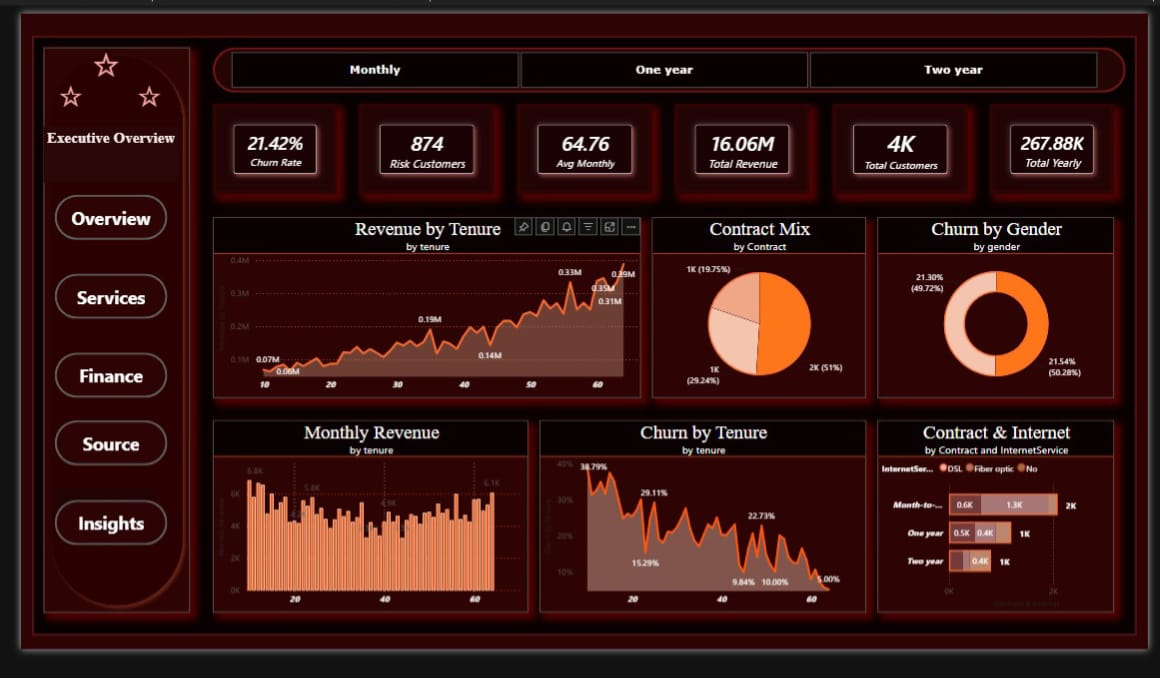

Layout of this report page (visuals, bound fields, positions):
{"tool":"powerbi","page":{"name":"Executive Overview","canvas":[1600,900],"ordinal":0},"visuals":[{"type":"shape","box":[16,32,1568,848],"z":0},{"type":"shape","box":[32,48,208,800],"z":1000},{"type":"cardVisual","fields":{"Data":["TelcoChurnData.Total Customers"]},"box":[1152,128,192,128],"z":2000},{"type":"cardVisual","fields":{"Data":["Sum(vw_DashboardKPIs.TotalRevenue)"]},"box":[928,128,192,128],"z":3000},{"type":"cardVisual","fields":{"Data":["Sum(vw_DashboardKPIs.AvgMonthlyCharges)"]},"box":[704,128,192,128],"z":4000},{"type":"cardVisual","fields":{"Data":["vw_DashboardKPIs.At Risk Customers"]},"box":[480,128,192,128],"z":5000},{"type":"barChart","fields":{"Category":["TelcoChurnData.Contract"],"Series":["TelcoChurnData.InternetService"],"Y":["TelcoChurnData.Total Customers"]},"box":[1216,576,336,272],"z":6000},{"type":"cardVisual","fields":{"Data":["FactRevenue.Total Revenue Fact"]},"box":[1376,128,176,128],"z":7000},{"type":"cardVisual","fields":{"Data":["FactRevenue.Churn Rate Fact"]},"box":[272,128,176,128],"z":8000},{"type":"clusteredColumnChart","fields":{"Category":["FactRevenue.tenure"],"Y":["FactRevenue.Total Revenue Fact"]},"box":[272,576,448,272],"z":9000},{"type":"slicer","fields":{"Values":["FactRevenue.tenure"]},"box":[1024,688,160,64],"z":10000},{"type":"pieChart","fields":{"Category":["DimContract.Contract"],"Y":["FactRevenue.Total Customers Fact"]},"box":[896,288,304,256],"z":11000},{"type":"lineChart","fields":{"Category":["FactRevenue.tenure"],"Y":["TelcoChurnData.Total Revenue"]},"box":[272,288,608,256],"z":12000},{"type":"textbox","box":[32,160,192,80],"z":13000},{"type":"lineChart","fields":{"Category":["FactRevenue.tenure"],"Y":["FactRevenue.Churn Rate Fact"]},"box":[736,576,464,272],"z":14000},{"type":"donutChart","fields":{"Category":["DimCustomer.gender"],"Y":["FactRevenue.Churn Rate Fact"]},"box":[1216,288,336,256],"z":16000},{"type":"textbox","box":[48,80,48,80],"z":17000},{"type":"textbox","box":[96,32,80,96],"z":18000},{"type":"textbox","box":[160,80,64,80],"z":19000},{"type":"shape","box":[48,672,144,48],"z":20000},{"type":"actionButton","box":[48,576,160,64],"z":22000},{"type":"actionButton","box":[48,256,160,64],"z":23000},{"type":"actionButton","box":[48,368,160,64],"z":24000},{"type":"actionButton","box":[48,480,160,64],"z":25000},{"type":"actionButton","box":[48,688,160,64],"z":26000},{"type":"shape","box":[272,48,1296,64],"z":27000},{"type":"slicer","fields":{"Values":["DimContract.Contract Label"]},"box":[272,48,1280,64],"z":28000}]}

Visuals, with their boxes on the page's 1600x900 design canvas (x1, y1, x2, y2). These are canvas units, not pixel positions in the 1160x678 screenshot, which may show the page scaled, cropped or inside an application window:
shape: box(16, 32, 1584, 880)
shape: box(32, 48, 240, 848)
cardVisual - TelcoChurnData.Total Customers: box(1152, 128, 1344, 256)
cardVisual - Sum(vw_DashboardKPIs.TotalRevenue): box(928, 128, 1120, 256)
cardVisual - Sum(vw_DashboardKPIs.AvgMonthlyCharges): box(704, 128, 896, 256)
cardVisual - vw_DashboardKPIs.At Risk Customers: box(480, 128, 672, 256)
barChart - TelcoChurnData.Contract x TelcoChurnData.InternetService: box(1216, 576, 1552, 848)
cardVisual - FactRevenue.Total Revenue Fact: box(1376, 128, 1552, 256)
cardVisual - FactRevenue.Churn Rate Fact: box(272, 128, 448, 256)
clusteredColumnChart - FactRevenue.tenure x FactRevenue.Total Revenue Fact: box(272, 576, 720, 848)
slicer - FactRevenue.tenure: box(1024, 688, 1184, 752)
pieChart - DimContract.Contract x FactRevenue.Total Customers Fact: box(896, 288, 1200, 544)
lineChart - FactRevenue.tenure x TelcoChurnData.Total Revenue: box(272, 288, 880, 544)
textbox: box(32, 160, 224, 240)
lineChart - FactRevenue.tenure x FactRevenue.Churn Rate Fact: box(736, 576, 1200, 848)
donutChart - DimCustomer.gender x FactRevenue.Churn Rate Fact: box(1216, 288, 1552, 544)
textbox: box(48, 80, 96, 160)
textbox: box(96, 32, 176, 128)
textbox: box(160, 80, 224, 160)
shape: box(48, 672, 192, 720)
actionButton: box(48, 576, 208, 640)
actionButton: box(48, 256, 208, 320)
actionButton: box(48, 368, 208, 432)
actionButton: box(48, 480, 208, 544)
actionButton: box(48, 688, 208, 752)
shape: box(272, 48, 1568, 112)
slicer - DimContract.Contract Label: box(272, 48, 1552, 112)
